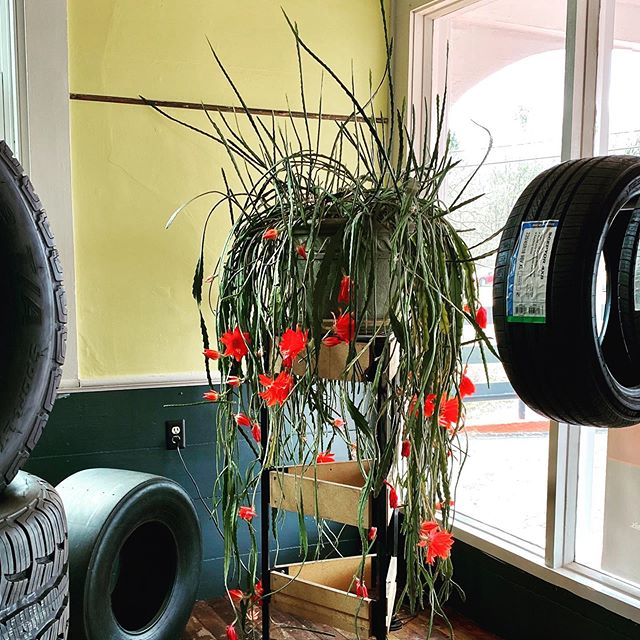flowers: (161, 127, 481, 618)
